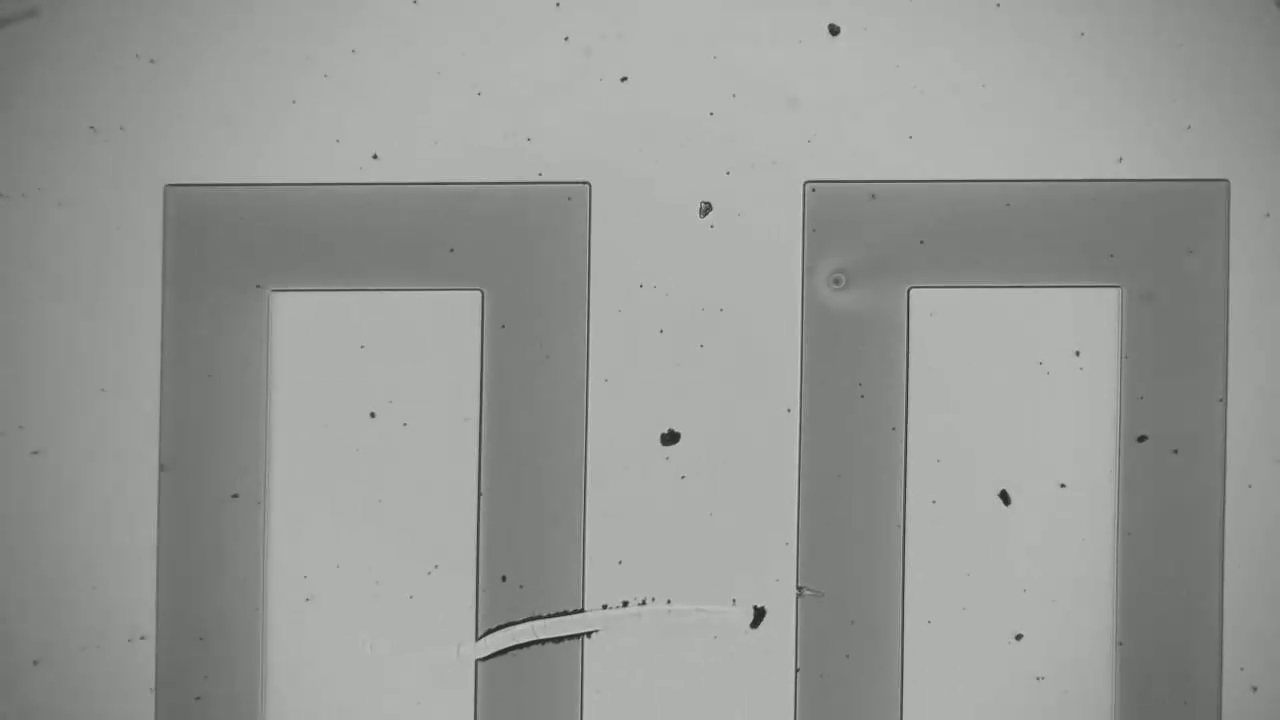Short_circuit: (443, 582, 629, 674)
